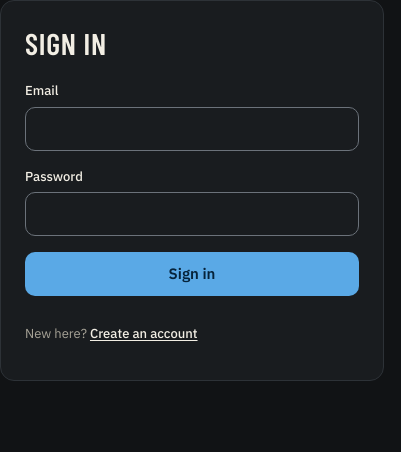
Test: AuthForm › submits the entered values to the action and shows its error
Type "a@example.test" into the field labelled "Email". click: {"x": 192, "y": 128}
box: [25,106,359,150]
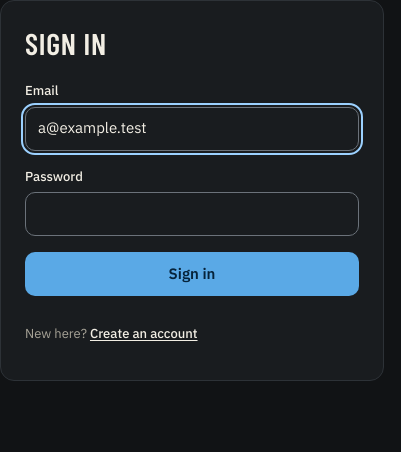
Type "secret-secret" into the password field labelled "Password". click: {"x": 192, "y": 214}
box: [25,192,359,236]
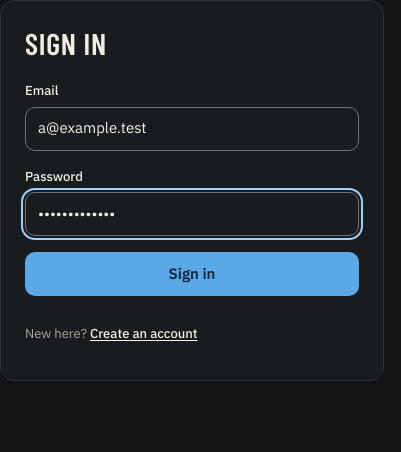
Click the button with test id "auth-submit". click: {"x": 192, "y": 274}
box: [25,252,359,296]
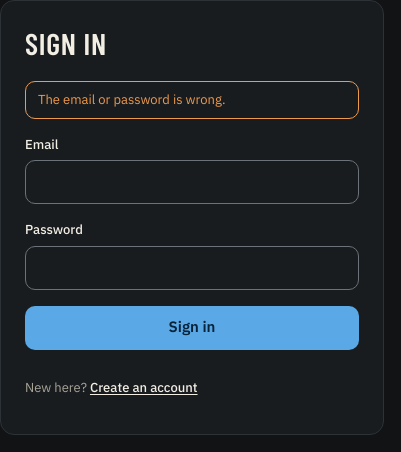
Now the message reads "The email or password is wrong.", box [38,91,226,108]
